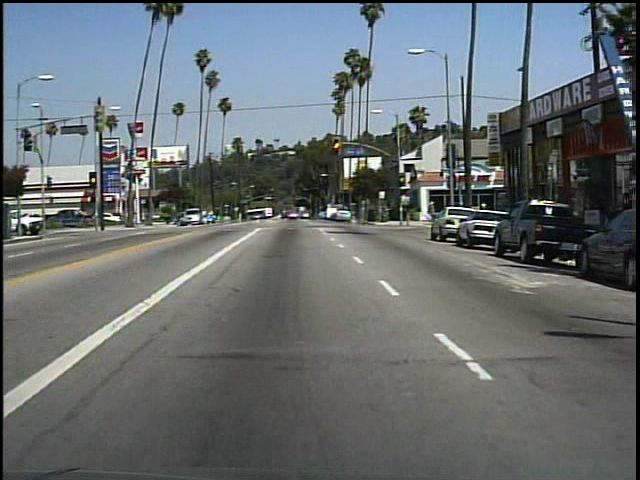person: (420, 196, 441, 223)
